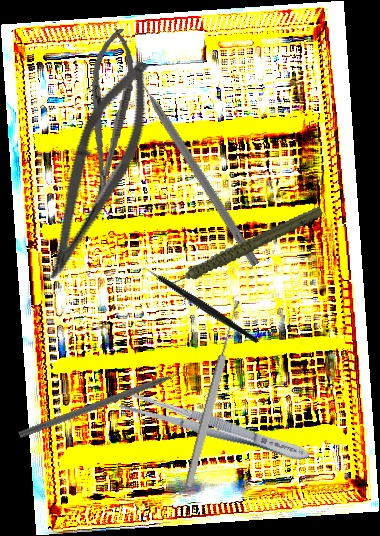Chopper: (129, 60, 271, 268), (133, 234, 260, 376), (18, 365, 198, 448)
Dressing Forceps: (116, 386, 314, 469)
Handpiece: (150, 204, 333, 289)
Micro Scissor: (33, 50, 165, 292)
Needle Holder: (79, 26, 139, 202)
Surgical Spoon: (182, 299, 244, 488)
